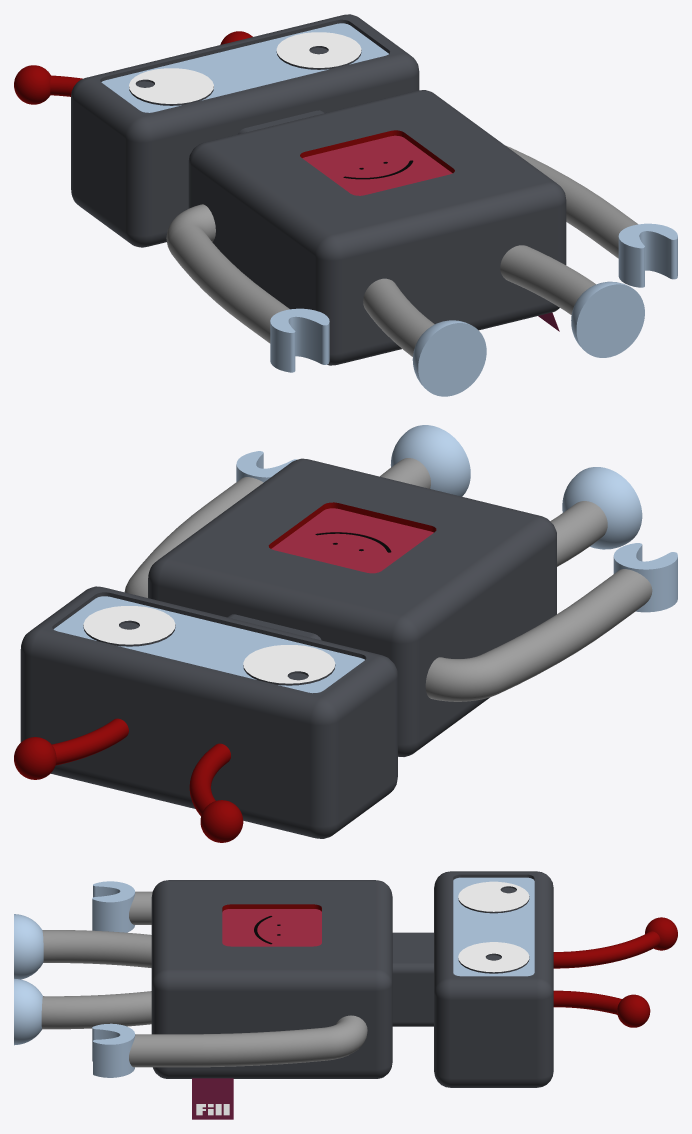
The model's file is BG-Filli.glb.
3 views of the same model, one above another, from view 1: azimuth 30°, elevation 25°; view 2: azimuth 150°, elevation 25°; view 3: azimuth 270°, elevation 25° (orthographic). The views are drawn at different scales.
Visible parts, largest first — view 1: Volumenkörper1 (×7); view 2: Volumenkörper1 (×8); view 3: Volumenkörper1 (×9).
Boxes of the visible parts, left/top/right/bottom form: Volumenkörper1 (×7): left=14, top=14, right=677, bottom=396; Volumenkörper1 (×8): left=14, top=425, right=677, bottom=842; Volumenkörper1 (×9): left=14, top=871, right=677, bottom=1119.
Size of the model in its own units: 0.2329 by 0.0926 by 0.3999.
